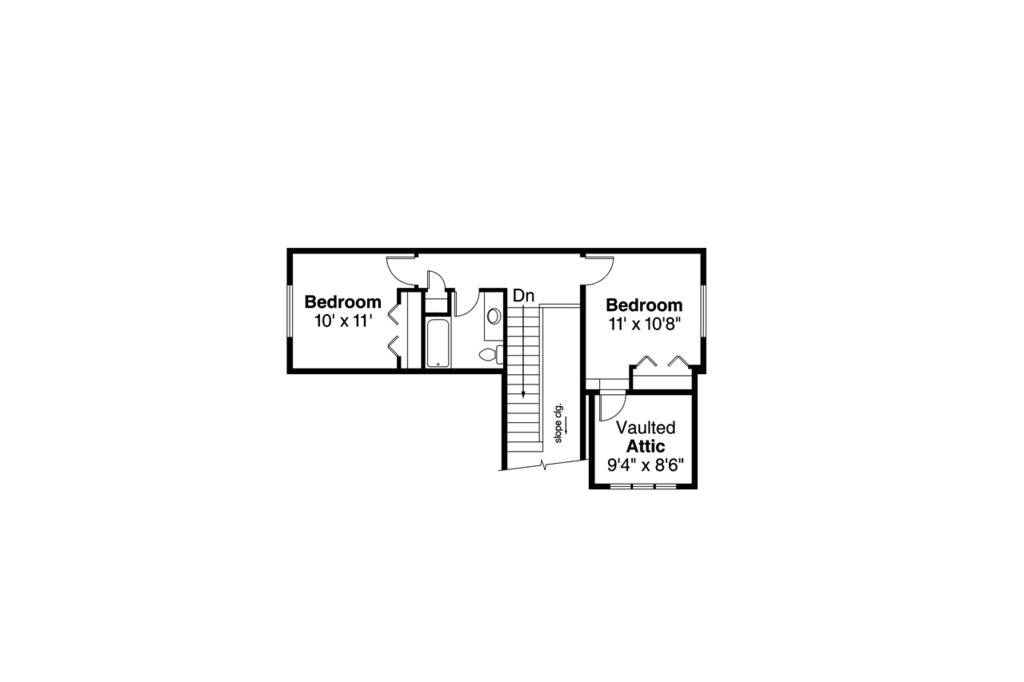door: (599, 391, 631, 420), (586, 255, 614, 287), (386, 257, 417, 285), (456, 289, 481, 318), (426, 270, 444, 297)
large_sink: (480, 346, 502, 372)
small_sink: (486, 290, 505, 333)
stairs: (505, 292, 549, 455)
tub: (429, 315, 452, 372)
window: (610, 485, 684, 488), (289, 285, 292, 335), (703, 283, 704, 340)
